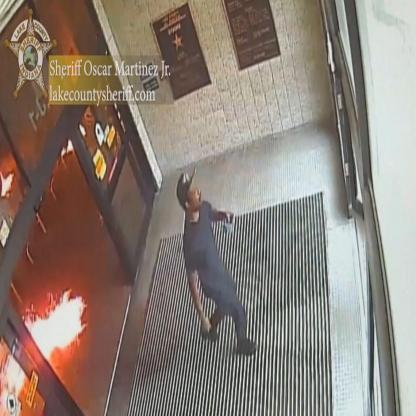fire: (23, 288, 86, 358), (0, 169, 14, 197)
